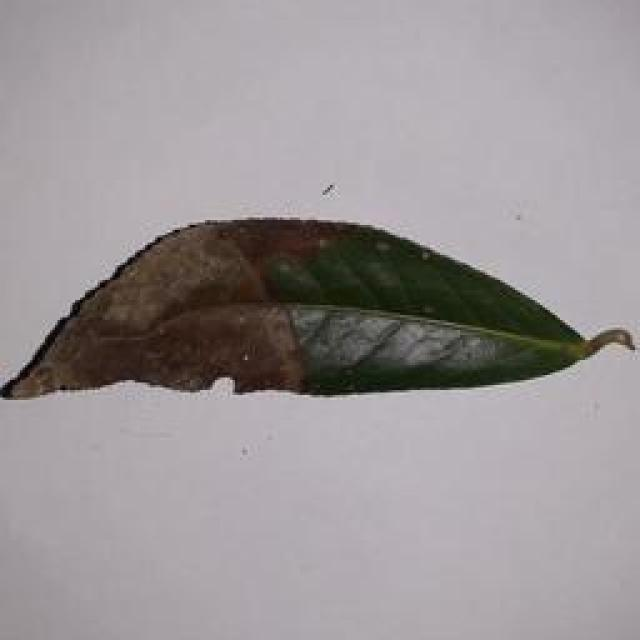Brown Blight: (0, 202, 640, 434)
